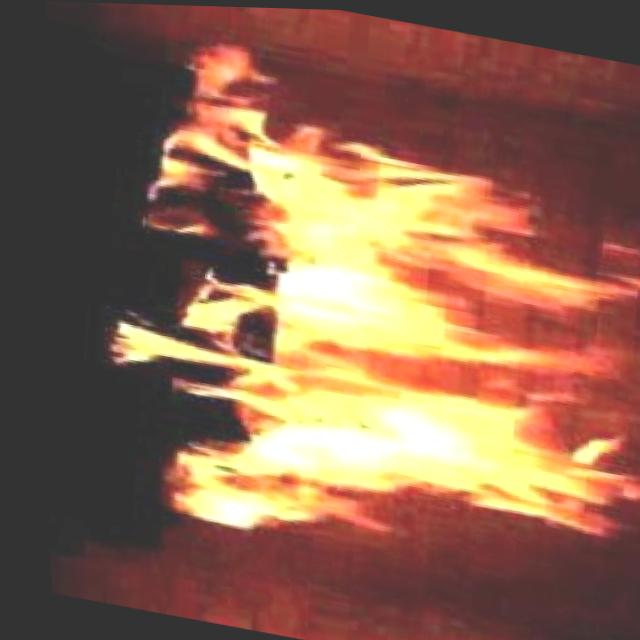Fire: (42, 19, 640, 611)
